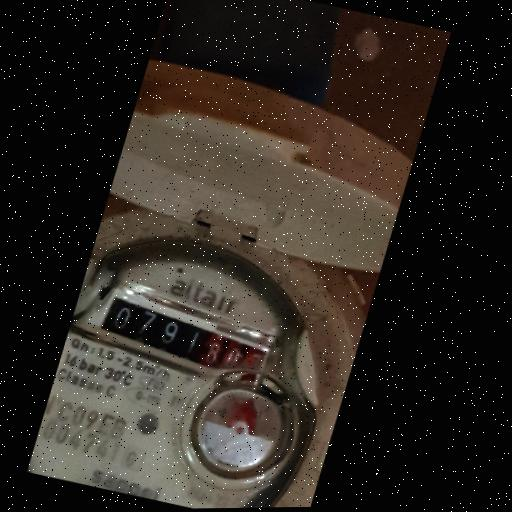0: (103, 298, 141, 339), (218, 337, 251, 376)
1: (175, 323, 212, 364)
7: (125, 305, 166, 348), (238, 345, 267, 376)
8: (196, 330, 232, 372)
9: (150, 313, 191, 357)
border_water_meter_number: (76, 274, 290, 400)
